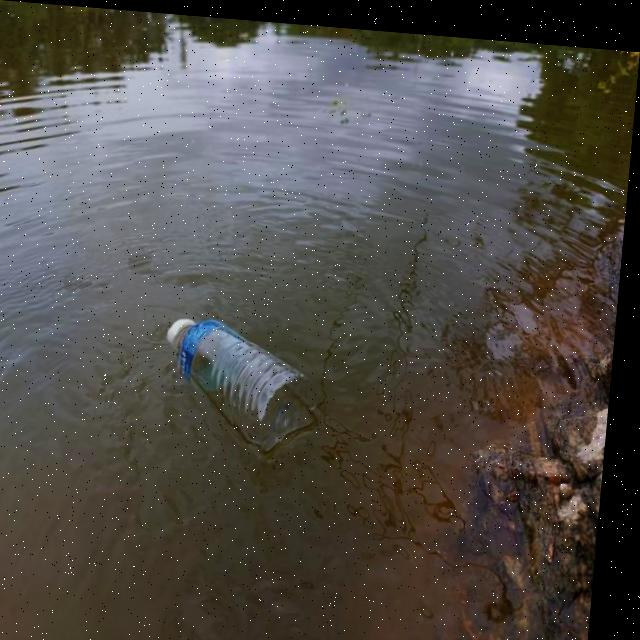waterbottle: (153, 296, 339, 470)
